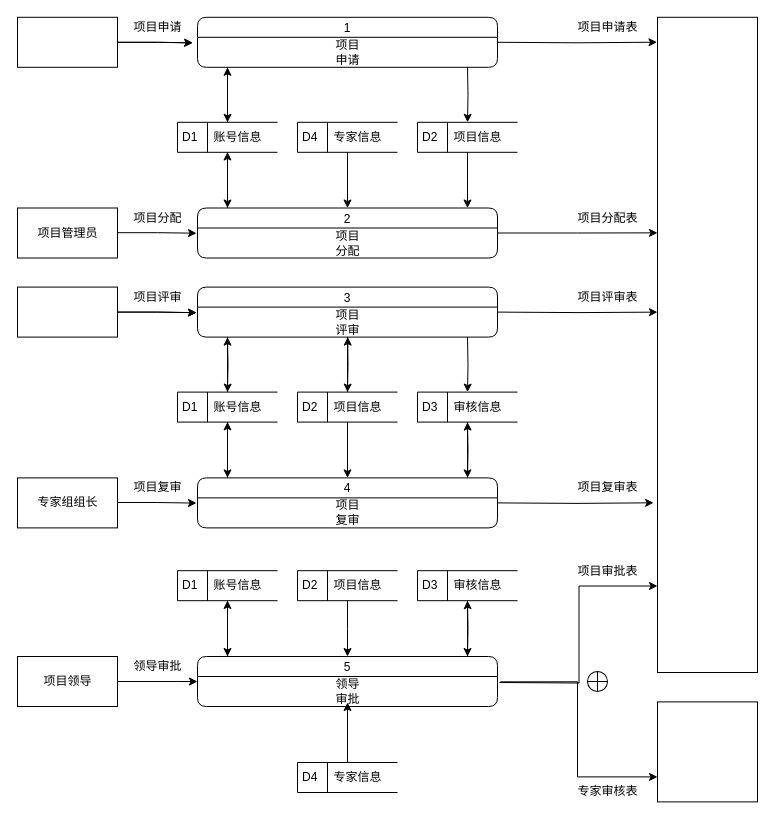
This 775x820 diagram has some shape labels left out. The box of each missing label's shape, as (x1, y1, x2, y2) in pixels:
专 家: (656, 701, 758, 802)
专家组成员: (16, 286, 118, 337)
项 目: (656, 16, 758, 672)
项目负责人: (16, 16, 118, 67)
